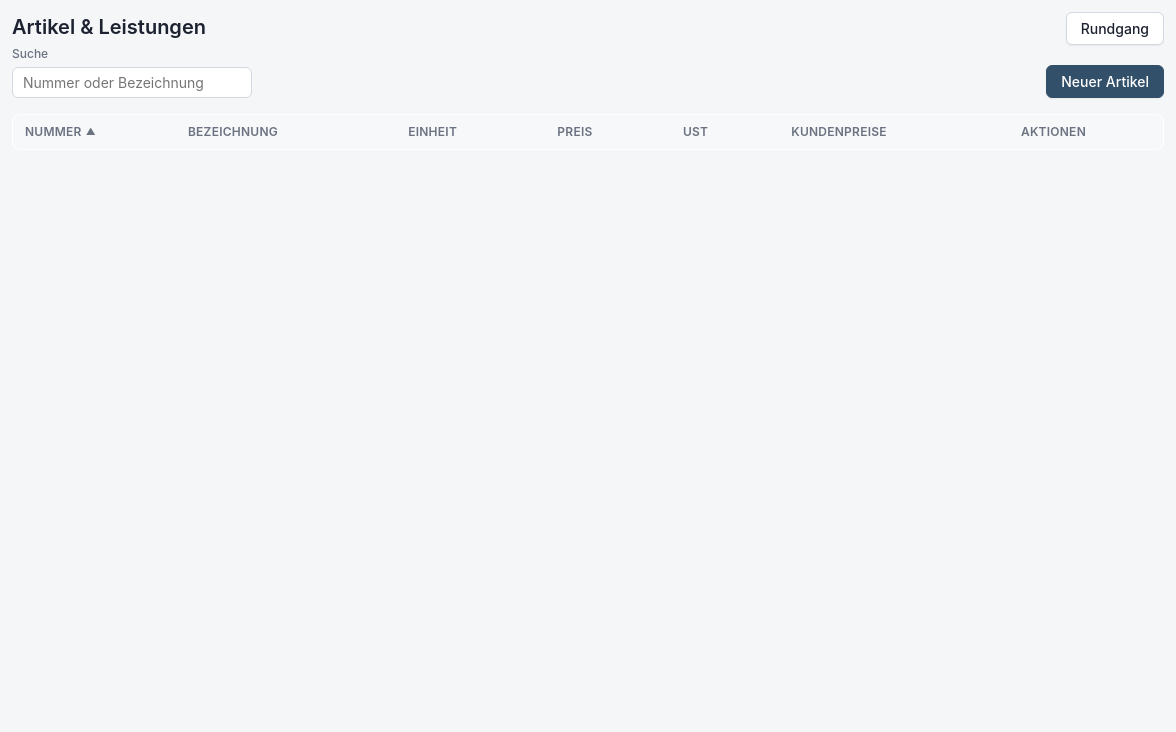
Artikel › zeigt den Validierungsfehler für das Feld einheit_id an
Click the button "Neuer Artikel" at (1105, 82), box left=1046, top=65, right=1164, bottom=98
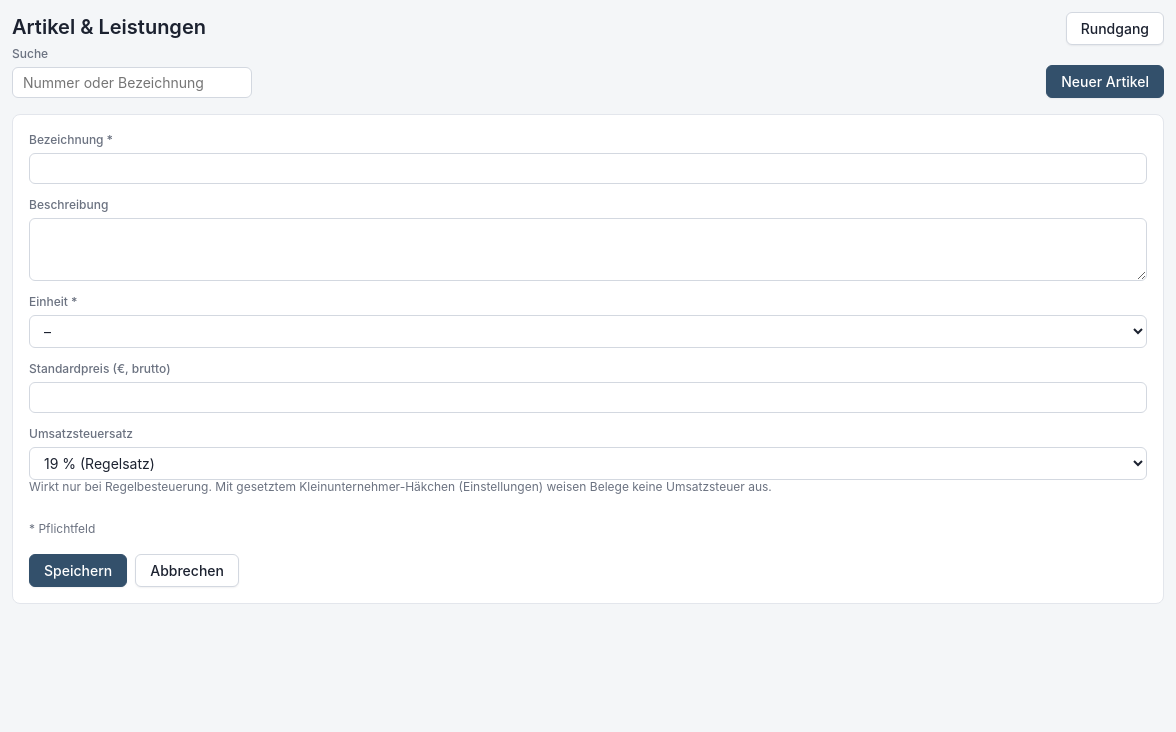
Type "Konzeption" into the field labelled "Bezeichnung *" at (588, 168), box left=29, top=153, right=1147, bottom=184
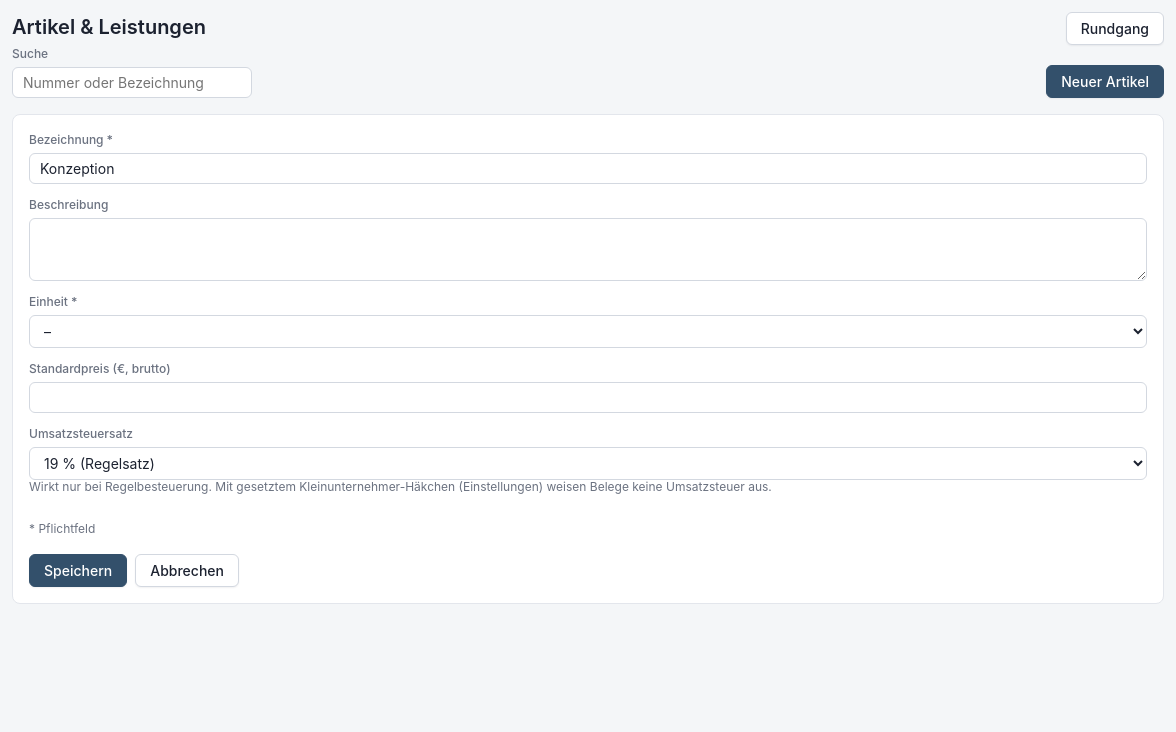
Select "Stunde (Std)" in the dropdown labelled "Einheit *" at (588, 332), box left=29, top=315, right=1147, bottom=348
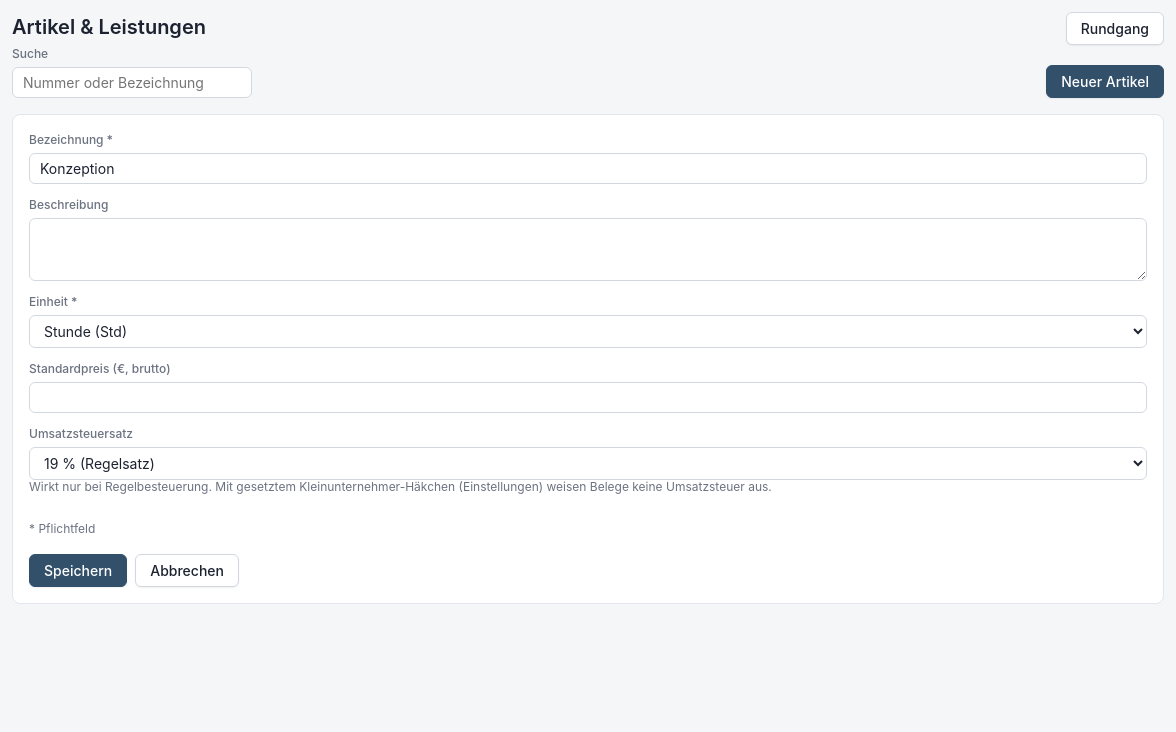
Type "50,00" into the field labelled "Standardpreis (€, brutto)" at (588, 398), box left=29, top=382, right=1147, bottom=413
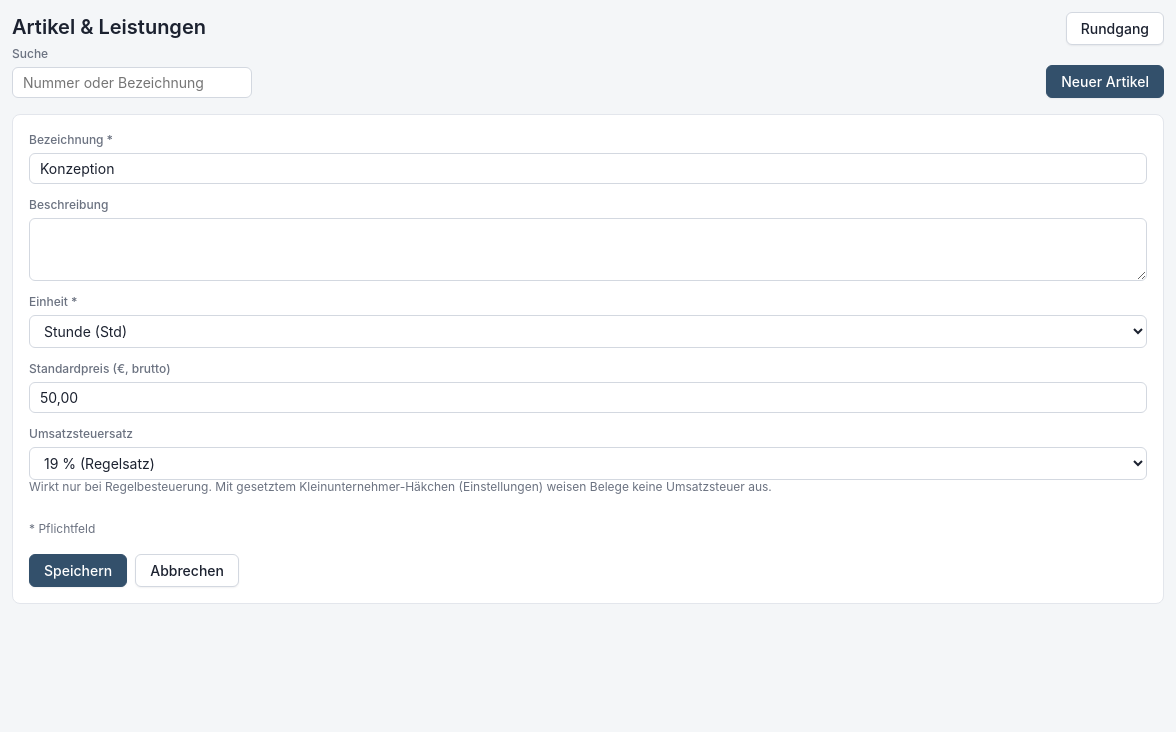
Click the button "Speichern" at (78, 570), box left=29, top=554, right=127, bottom=587
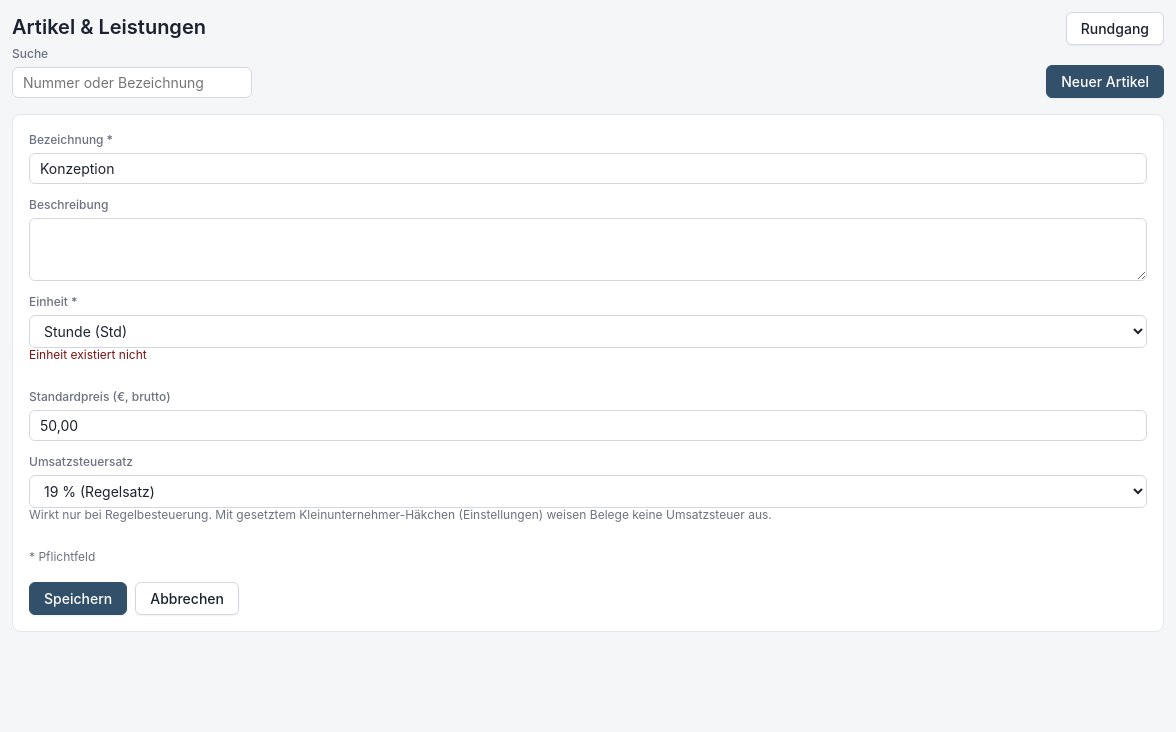
Now the text "Einheit existiert nicht" is shown, box left=29, top=347, right=147, bottom=362
